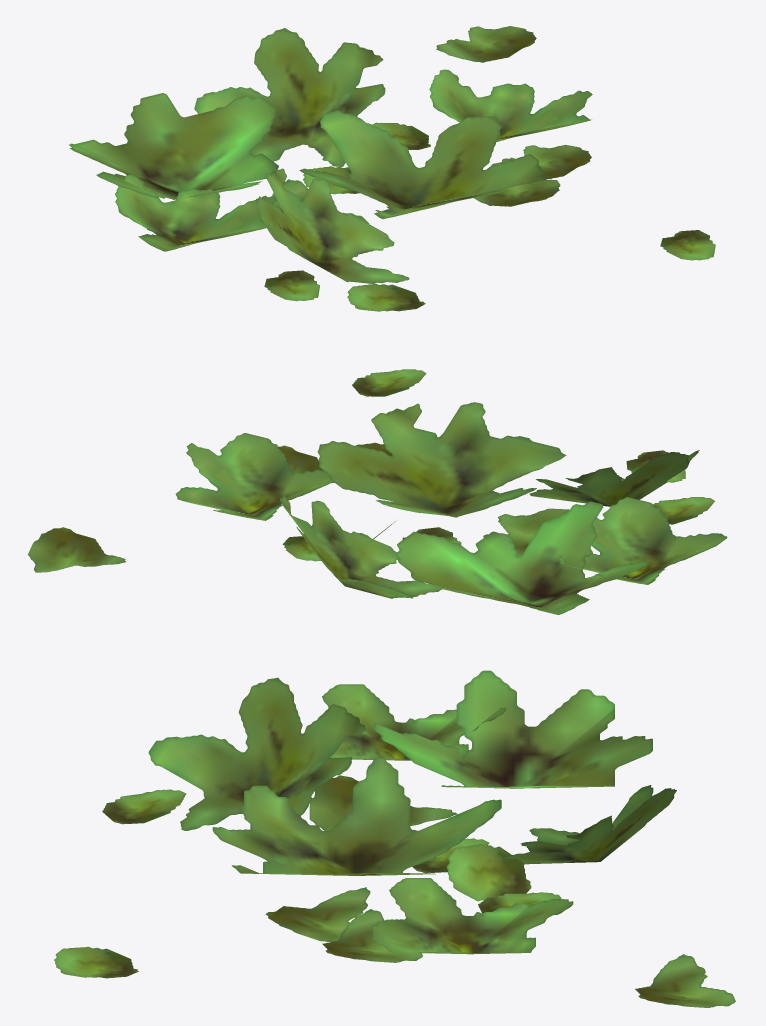
Rendered from yaocao_53_46_2172out.fbx.
The picture shows the model from 3 angles, top to bottom: view 1: azimuth 30°, elevation 25°; view 2: azimuth 150°, elevation 25°; view 3: azimuth 270°, elevation 25°; orthographic projection. The views are drawn at different scales.
Visible parts, largest first — view 1: yaocao; view 2: yaocao; view 3: yaocao.
Part boxes in pixels (x1=…): yaocao: x1=69, y1=26, x2=715, y2=311; yaocao: x1=28, y1=369, x2=727, y2=614; yaocao: x1=54, y1=670, x2=735, y2=1007.
Bounding box in the file's own units: 0.7709 × 0.1473 × 0.7825.
